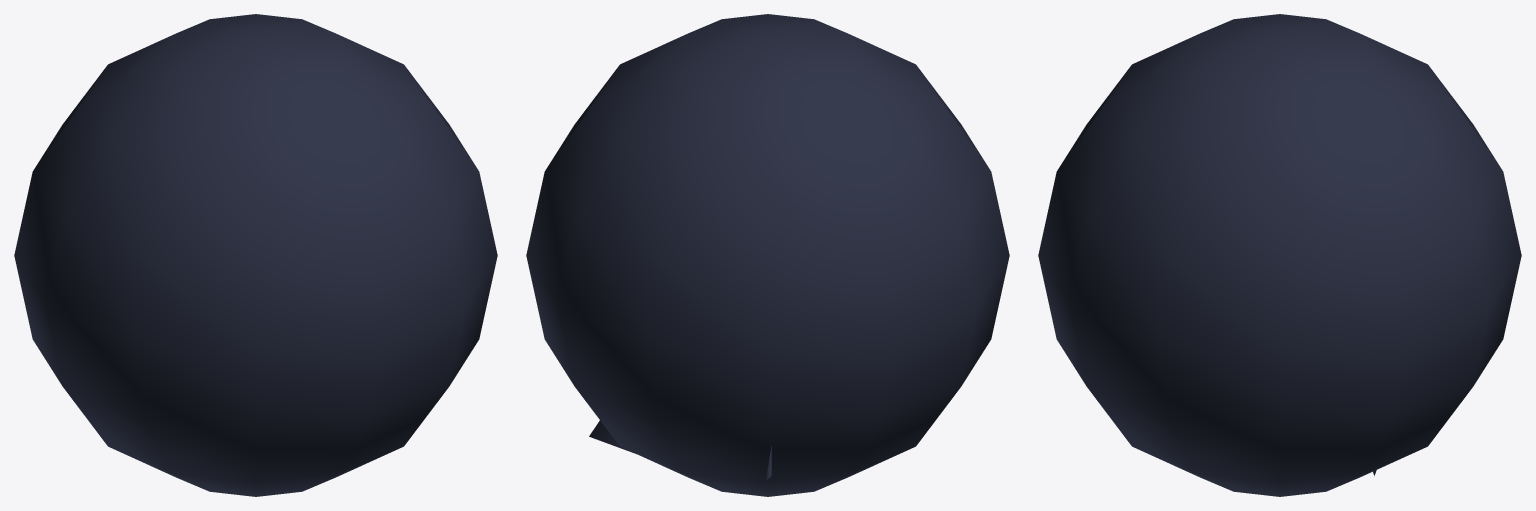
Rendered from anime_bun.glb.
3 views of the same model, side by side, from view 1: azimuth 30°, elevation 25°; view 2: azimuth 150°, elevation 25°; view 3: azimuth 270°, elevation 25° (orthographic).
Visible parts, largest first — view 1: bun; view 2: bun; view 3: bun.
Part boxes in pixels (x1,y1,x2,y2): bun: (14,14,497,496); bun: (526,14,1009,496); bun: (1038,14,1521,496).
Size of the model in its own units: 0.15 by 0.15 by 0.15.
